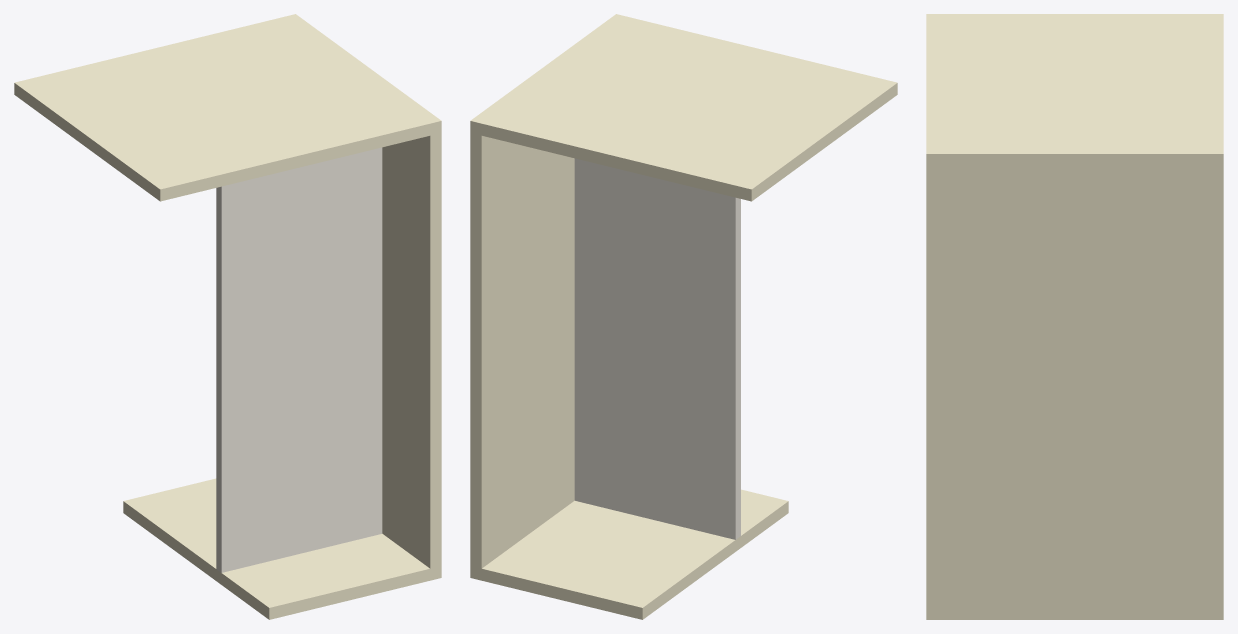
The model's file is nil_link_mesh.dae.
3 renders of one model, left to right at view 1: azimuth 30°, elevation 25°; view 2: azimuth 150°, elevation 25°; view 3: azimuth 270°, elevation 25°, orthographic.
Visible parts, largest first — view 1: nil_link (×4); view 2: nil_link (×4); view 3: nil_link (×2).
Boxes of the visible parts, left/top/right/bottom form: nil_link (×4): left=14, top=14, right=441, bottom=619; nil_link (×4): left=470, top=14, right=897, bottom=619; nil_link (×2): left=926, top=14, right=1223, bottom=619.
Size of the model in its own units: 1.22 by 1.9 by 1.1.
